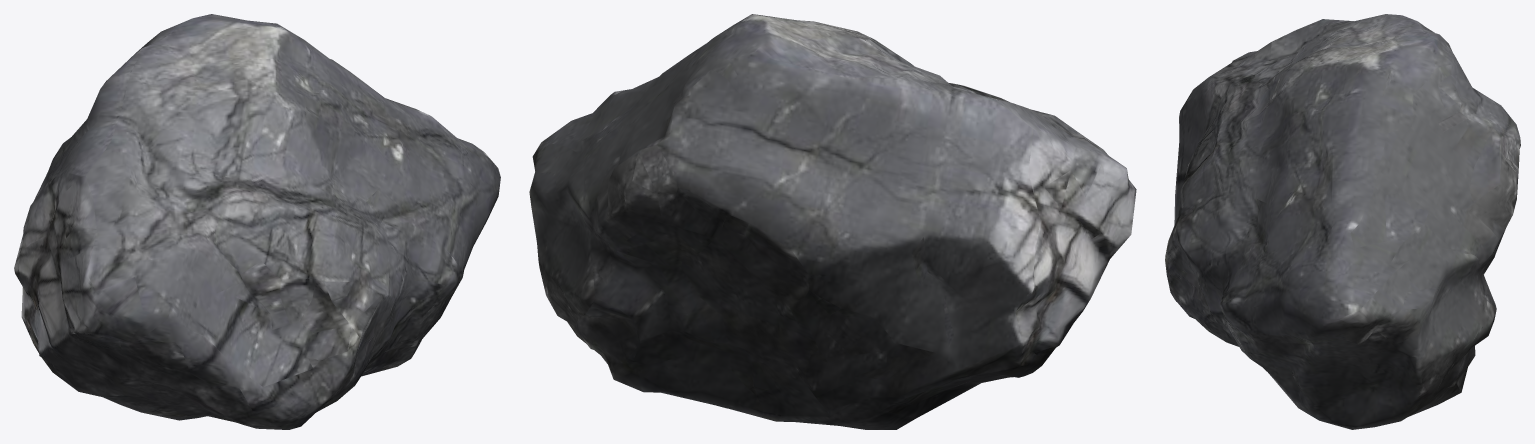
The model's file is erz.glb.
The picture shows the model from 3 angles, left to right: view 1: azimuth 30°, elevation 25°; view 2: azimuth 150°, elevation 25°; view 3: azimuth 270°, elevation 25°; orthographic projection. The views are drawn at different scales.
Size of the model in its own units: 1.99 by 1.4 by 1.38.
Materials: 1 (1 with a texture image).
